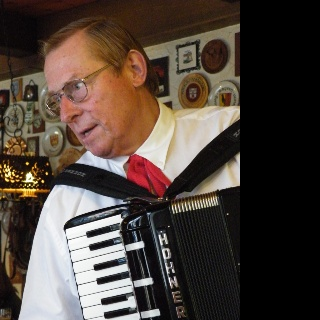without_mask: (43, 36, 136, 153)
